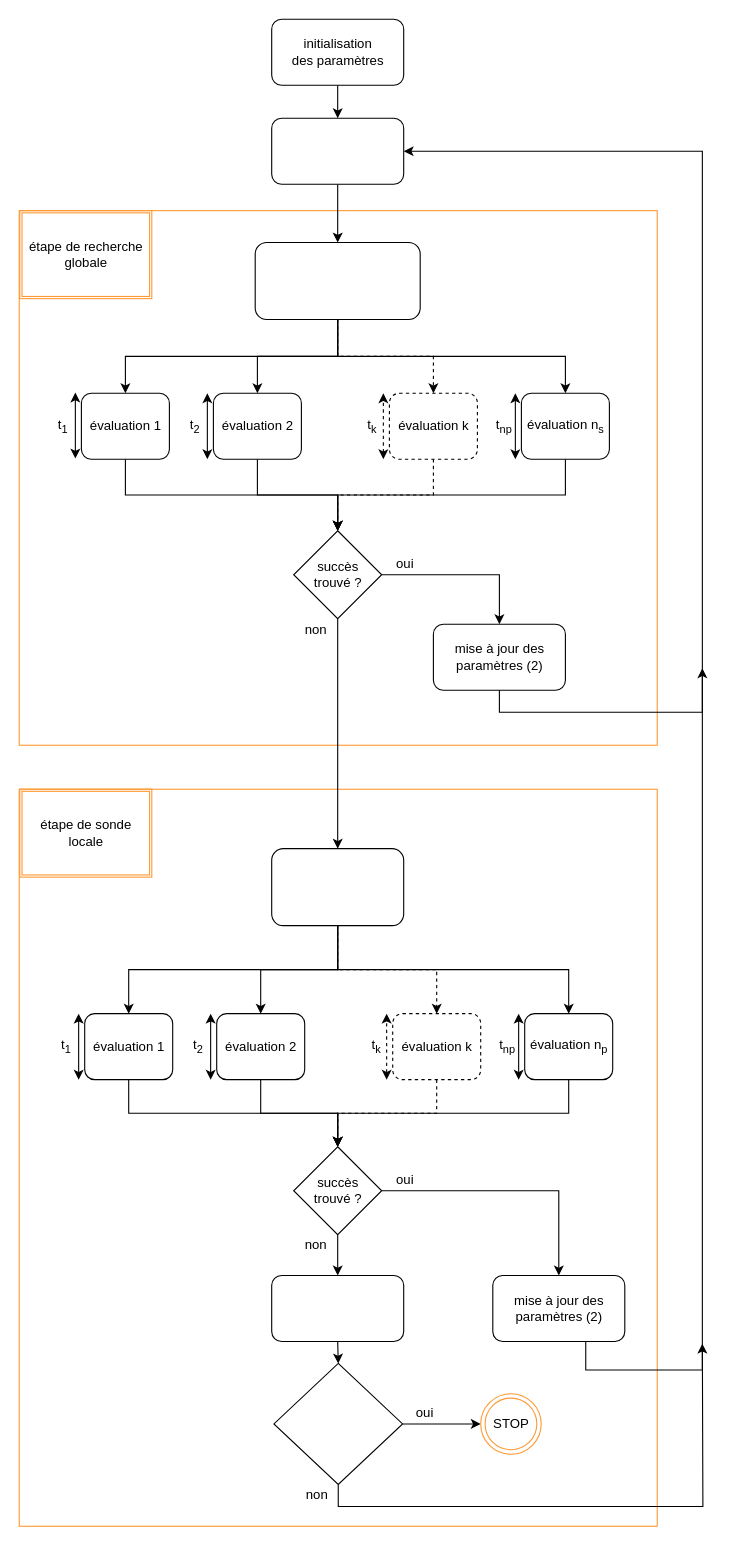
This 732x1546 diagram has some shape labels left out. The shapes that lost their labels are listed below. From the top down, each one's centre as x and y in pixels, then its label:
At [337,150]: "mise à jour des paramètres (1)".
At [337,280]: "génération de points de recheche globale".
At [337,887]: "génération de point de sonde".
At [337,1307]: "mise à jour des paramètres (3)".
At [338,1423]: "condition de convergence satisfaite ?".
